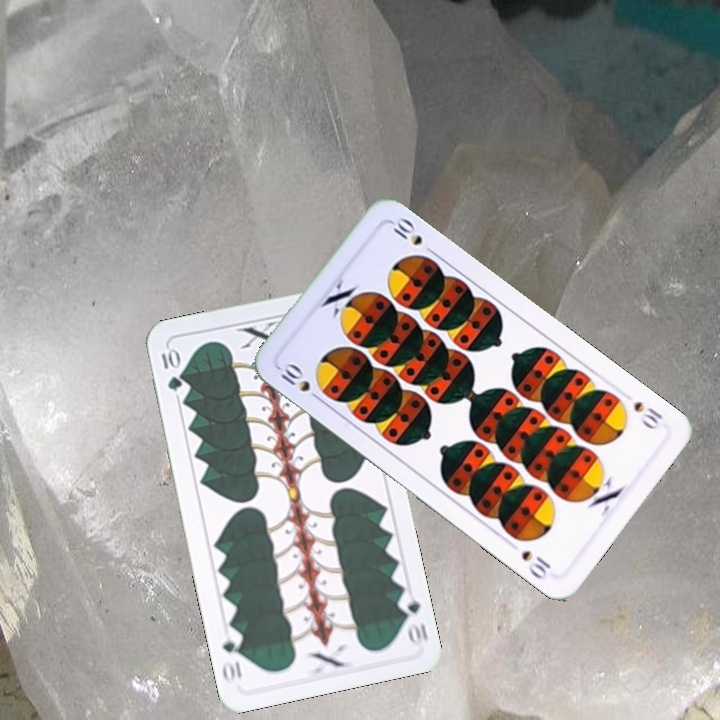G10: (394, 588, 431, 648), (157, 343, 185, 394)
S10: (276, 359, 325, 405), (629, 397, 666, 432)
